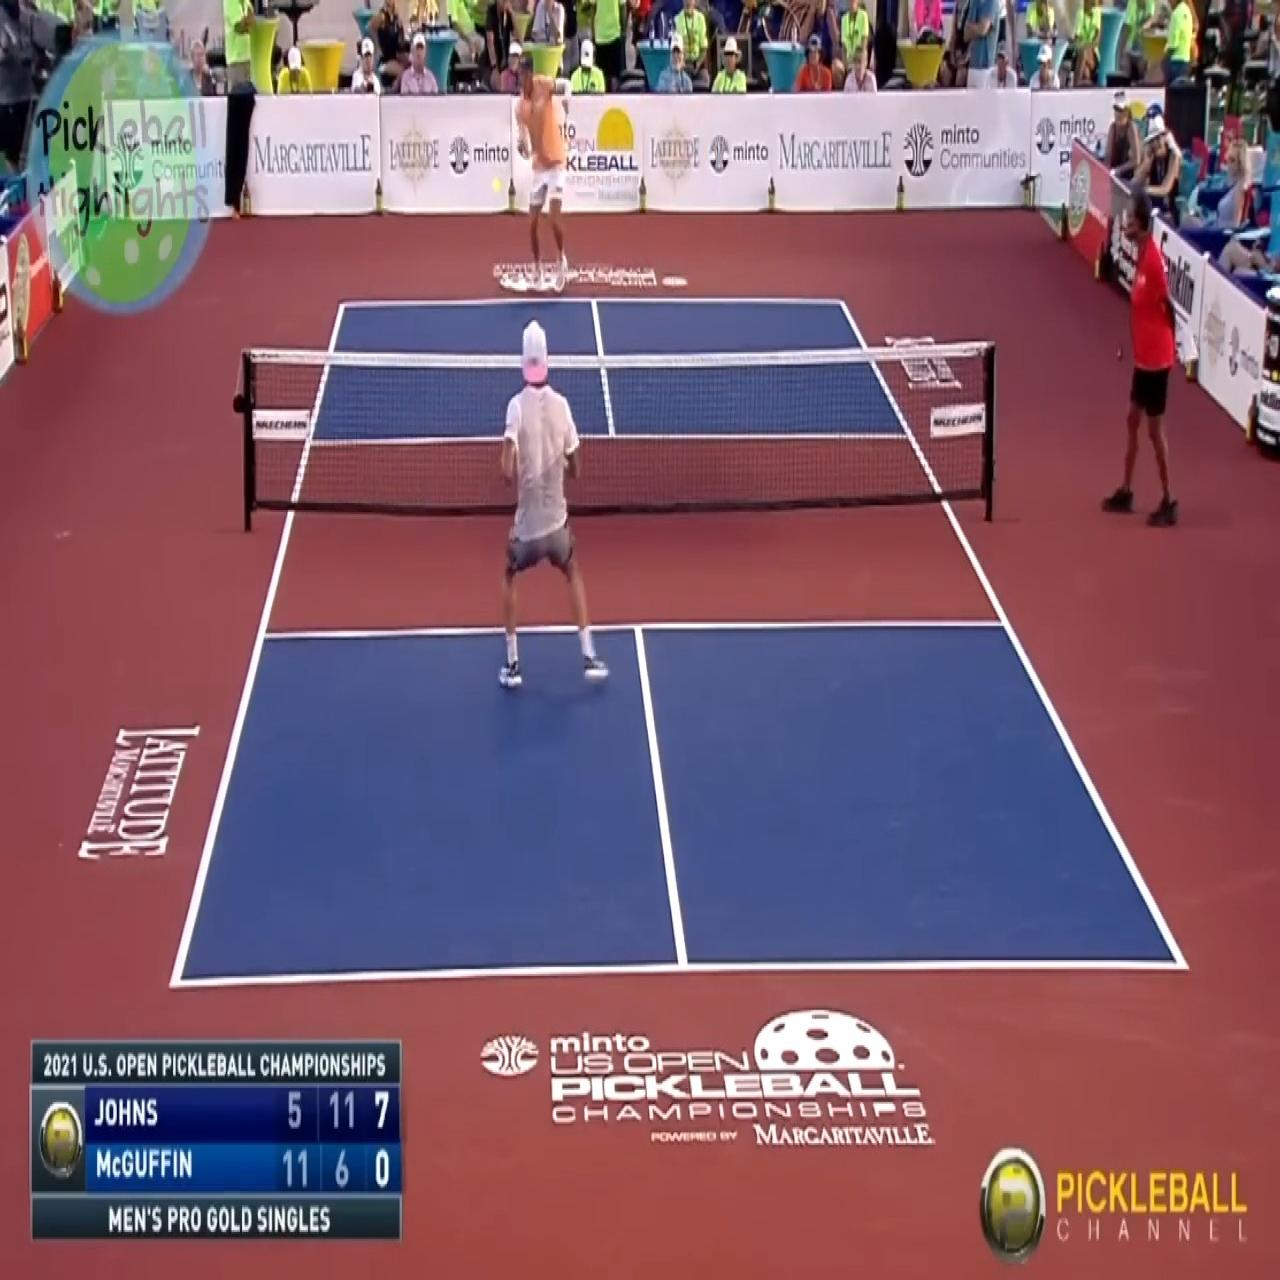pickleball: (492, 177, 502, 192)
